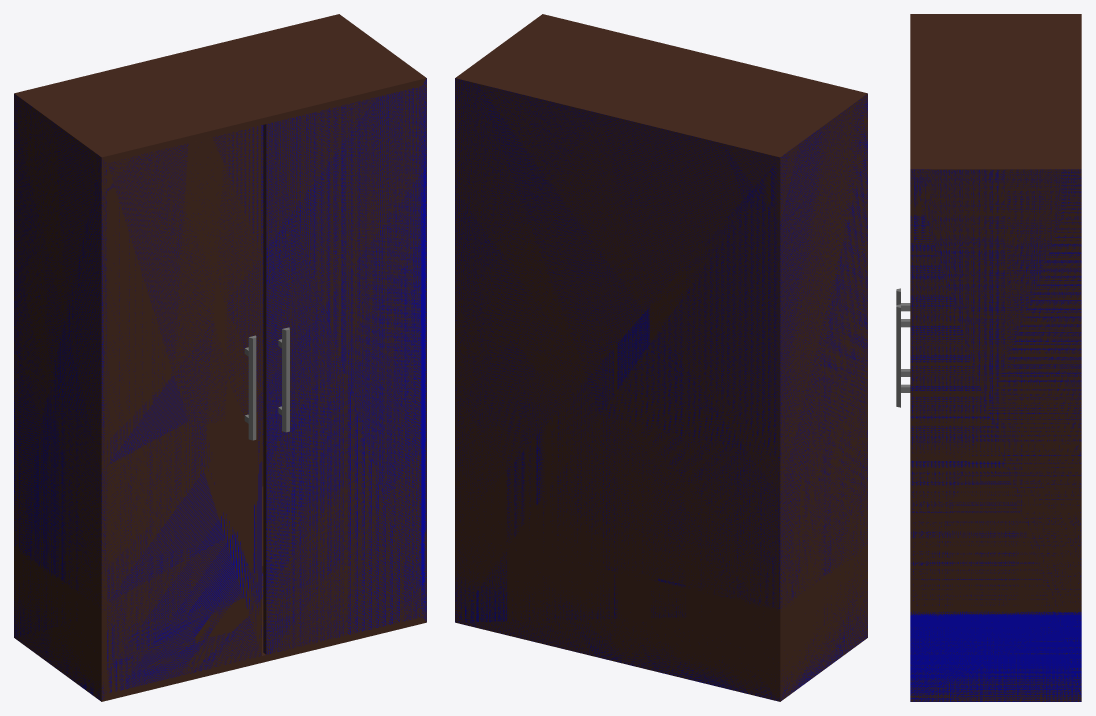
The model's file is Int_Wardrobe01_1.fbx.
3 views of the same model, side by side, from view 1: azimuth 30°, elevation 25°; view 2: azimuth 150°, elevation 25°; view 3: azimuth 270°, elevation 25° (orthographic). The views are drawn at different scales.
Parts seen in each view (by area): view 1: Int_Wardrobe01_1, UXC_Int_Wardrobe01_1_02, UXC_Int_Wardrobe01_1_03, UXC_Int_Wardrobe01_1_07, UXC_Int_Wardrobe01_1_06; view 2: Int_Wardrobe01_1, UXC_Int_Wardrobe01_1_01, UXC_Int_Wardrobe01_1_07; view 3: Int_Wardrobe01_1, UXC_Int_Wardrobe01_1_06.
Part boxes in pixels (bbox=[...]): Int_Wardrobe01_1: bbox=[14, 14, 426, 701]; UXC_Int_Wardrobe01_1_02: bbox=[263, 86, 421, 654]; UXC_Int_Wardrobe01_1_03: bbox=[107, 125, 261, 692]; UXC_Int_Wardrobe01_1_07: bbox=[14, 94, 106, 700]; UXC_Int_Wardrobe01_1_06: bbox=[421, 78, 426, 620]; Int_Wardrobe01_1: bbox=[455, 14, 867, 701]; UXC_Int_Wardrobe01_1_01: bbox=[455, 78, 780, 701]; UXC_Int_Wardrobe01_1_07: bbox=[780, 94, 867, 700]; Int_Wardrobe01_1: bbox=[896, 14, 1081, 701]; UXC_Int_Wardrobe01_1_06: bbox=[910, 169, 1081, 701].
Size of the model in its own units: 150 by 75.64 by 240.
